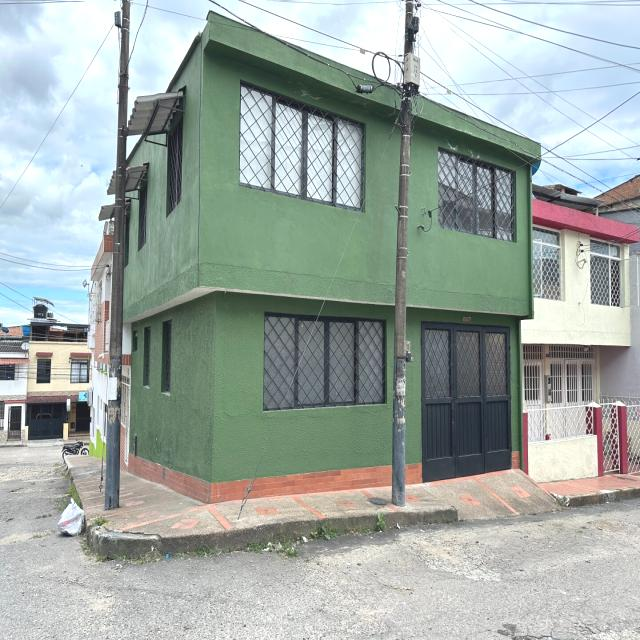fachada: (124, 13, 399, 501), (522, 185, 638, 480), (25, 298, 90, 439), (601, 242, 639, 403), (88, 220, 113, 458), (0, 326, 28, 442)
poste: (105, 0, 130, 509), (392, 73, 415, 506)
